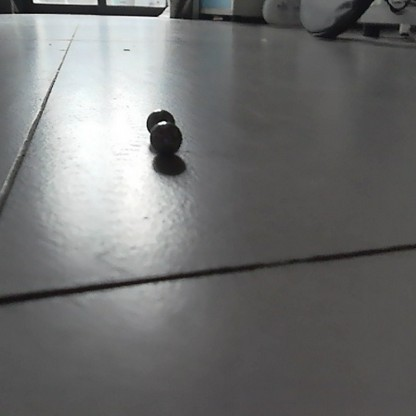ironball: (150, 121, 181, 159), (144, 105, 173, 126)
